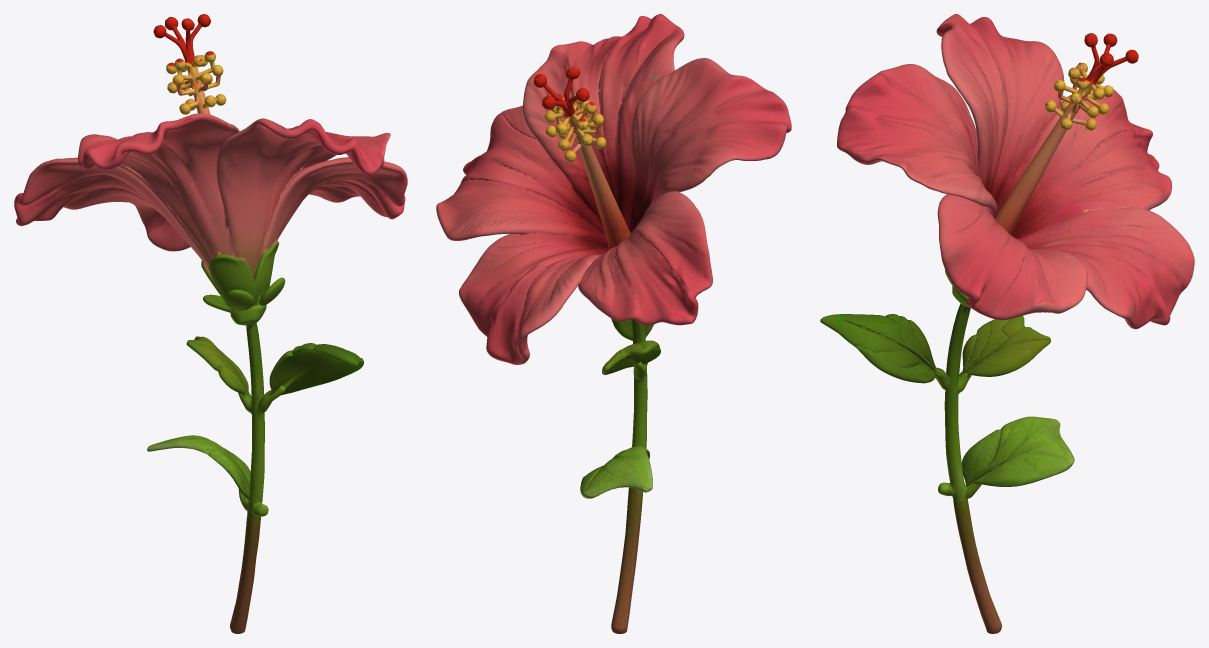
File: hibiscus.glb
3 views of the same model, side by side, from view 1: azimuth 30°, elevation 25°; view 2: azimuth 150°, elevation 25°; view 3: azimuth 270°, elevation 25° (orthographic). The views are drawn at different scales.
Parts seen in each view (by area): view 1: tripo_node_aaff10ec-e33a-4a61-a0c0-29b79ee85e5a; view 2: tripo_node_aaff10ec-e33a-4a61-a0c0-29b79ee85e5a; view 3: tripo_node_aaff10ec-e33a-4a61-a0c0-29b79ee85e5a.
Part boxes in pixels (left/top/right/bottom): tripo_node_aaff10ec-e33a-4a61-a0c0-29b79ee85e5a: left=14, top=14, right=407, bottom=633; tripo_node_aaff10ec-e33a-4a61-a0c0-29b79ee85e5a: left=436, top=14, right=791, bottom=633; tripo_node_aaff10ec-e33a-4a61-a0c0-29b79ee85e5a: left=820, top=14, right=1194, bottom=633.
Size of the model in its own units: 0.5586 by 0.9804 by 0.5584.
Materials: 1 (1 with a texture image).
